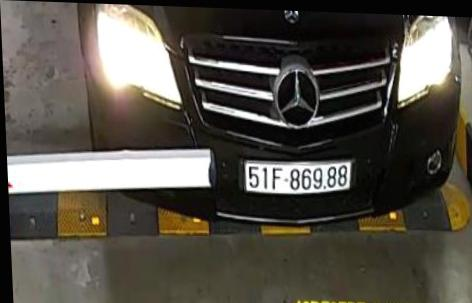License_Plate: (239, 152, 359, 198)
